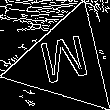M_S: (36, 32, 93, 92)
